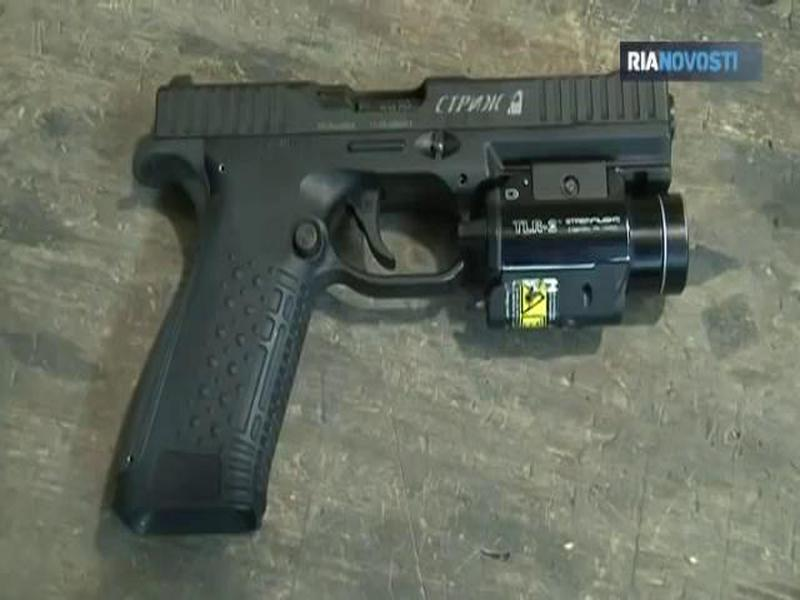Pistola: (100, 54, 703, 534)
